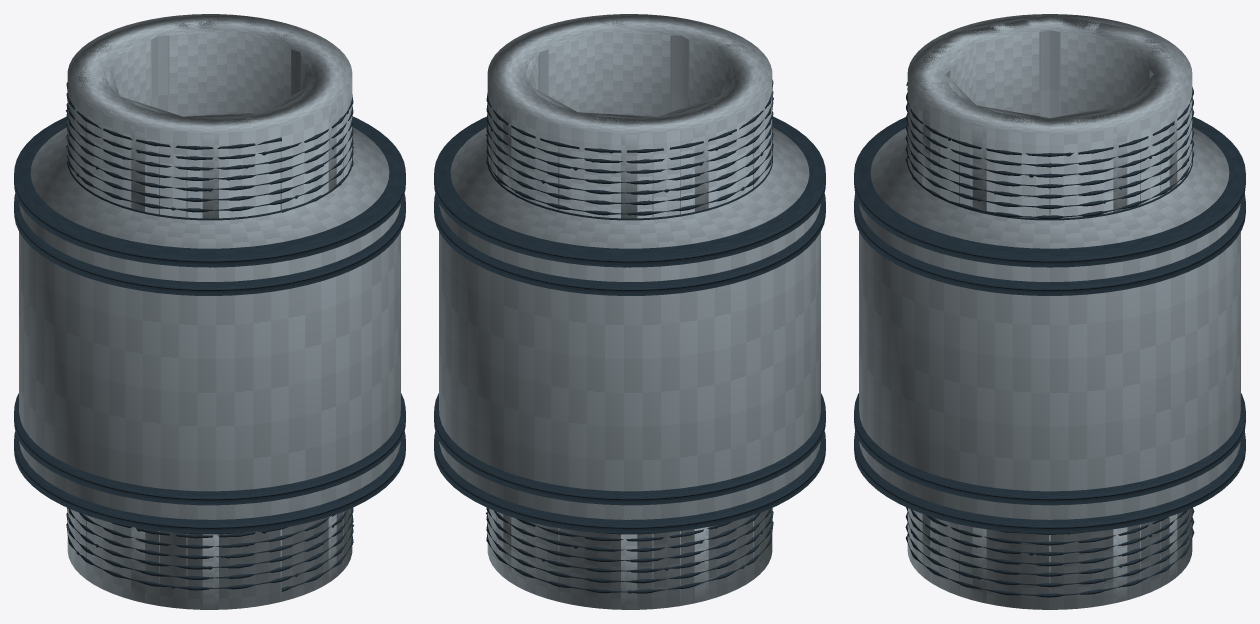
Rendered from core-ring.glb.
3 renders of one model, left to right at view 1: azimuth 30°, elevation 25°; view 2: azimuth 150°, elevation 25°; view 3: azimuth 270°, elevation 25°, orthographic.
Visible parts, largest first — view 1: tool-housing (×3), uphole-connection (×4), service-features (×3), downhole-connection (×2); view 2: tool-housing (×3), uphole-connection (×4), service-features (×3), downhole-connection (×2); view 3: tool-housing (×3), uphole-connection (×4), service-features (×3), downhole-connection (×3).
Part boxes in pixels (x1,y1,x2,y2): tool-housing (×3): (19,35,400,609); uphole-connection (×4): (66,14,353,220); service-features (×3): (14,116,405,533); downhole-connection (×2): (66,507,353,609); tool-housing (×3): (439,35,820,609); uphole-connection (×4): (486,14,773,220); service-features (×3): (434,116,825,533); downhole-connection (×2): (486,508,773,609); tool-housing (×3): (859,30,1240,609); uphole-connection (×4): (905,14,1194,220); service-features (×3): (854,116,1245,533); downhole-connection (×3): (905,507,1194,609).
Bounding box in the file's own units: 0.1194 × 0.16 × 0.1194.
Materials: 2 (2 with a texture image).
